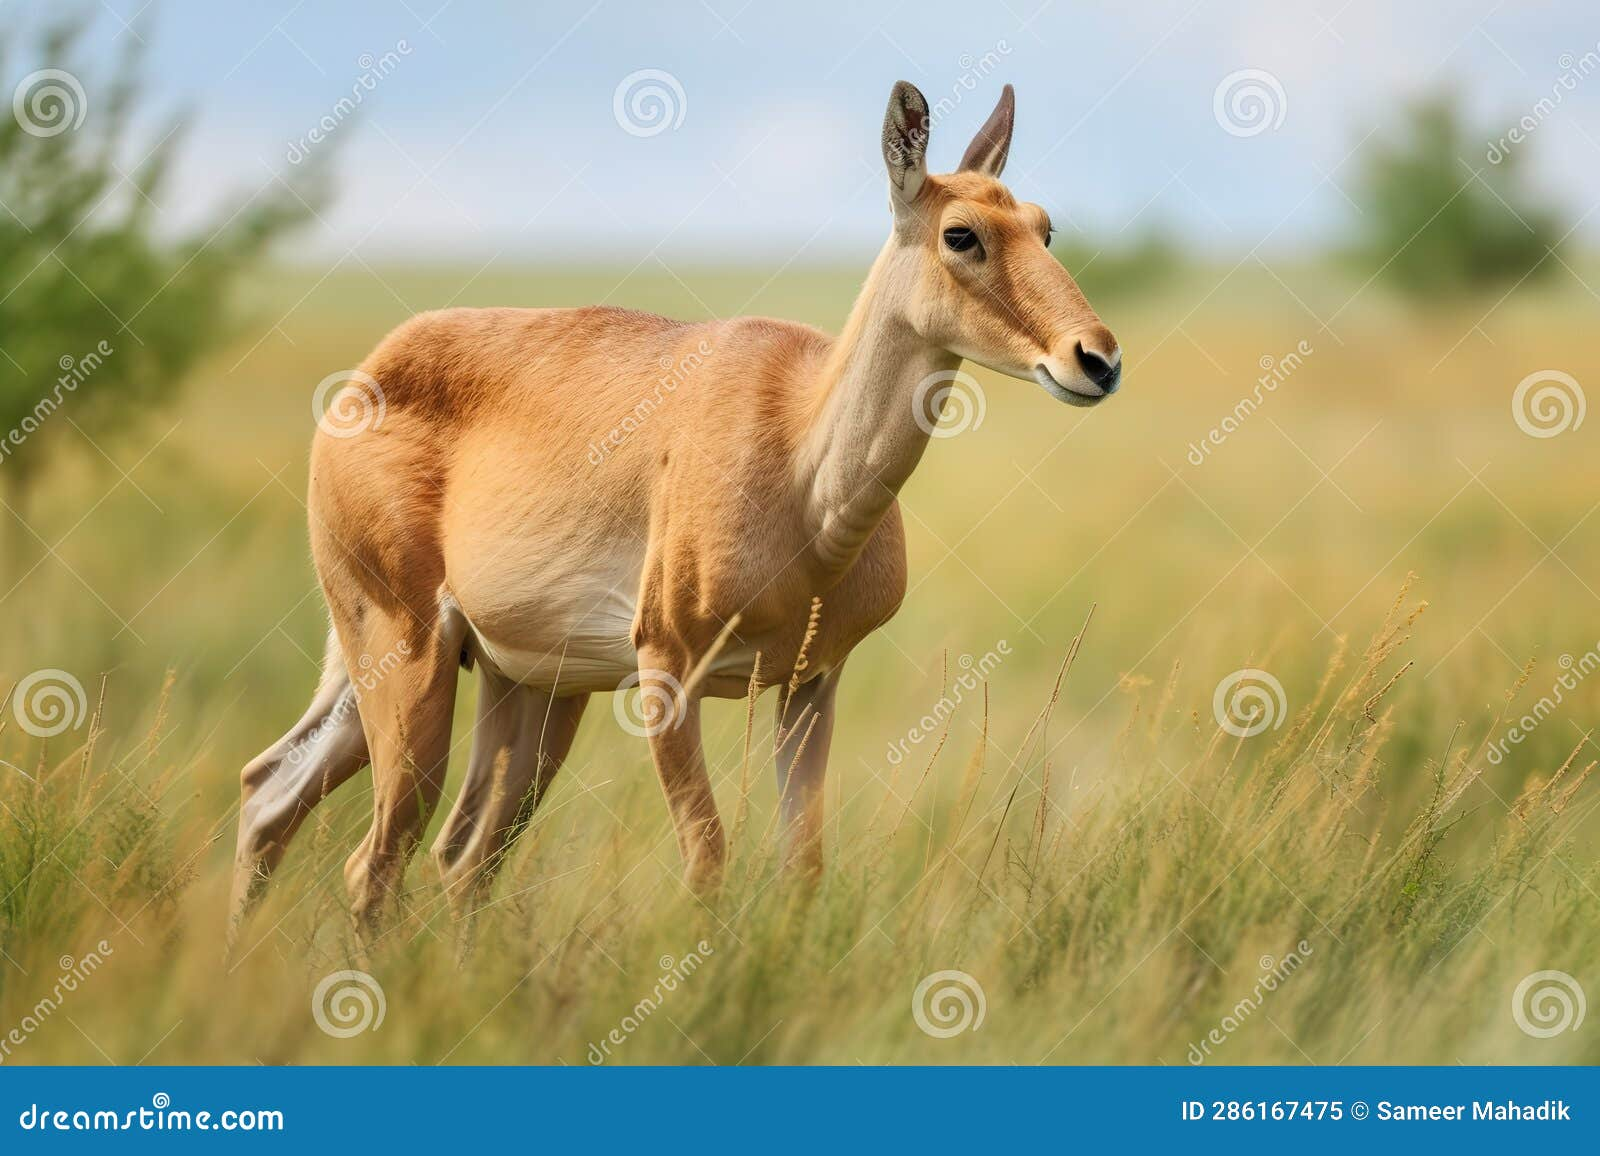saiga: (235, 73, 1122, 944)
